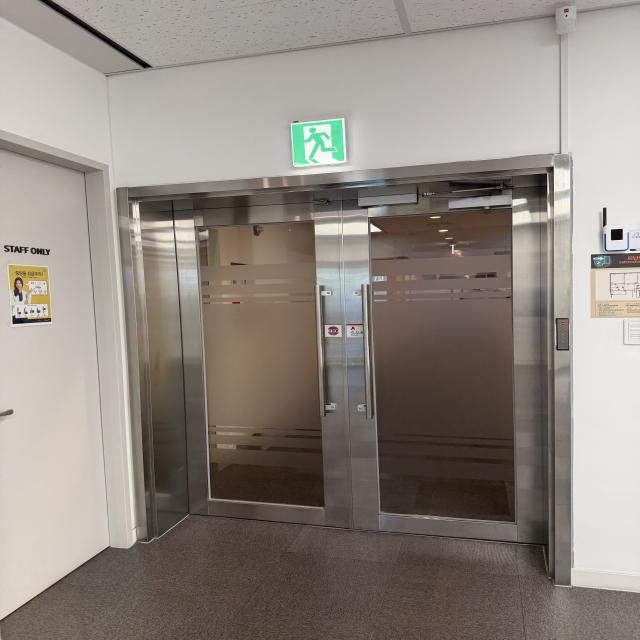rear_door: (157, 176, 551, 549)
